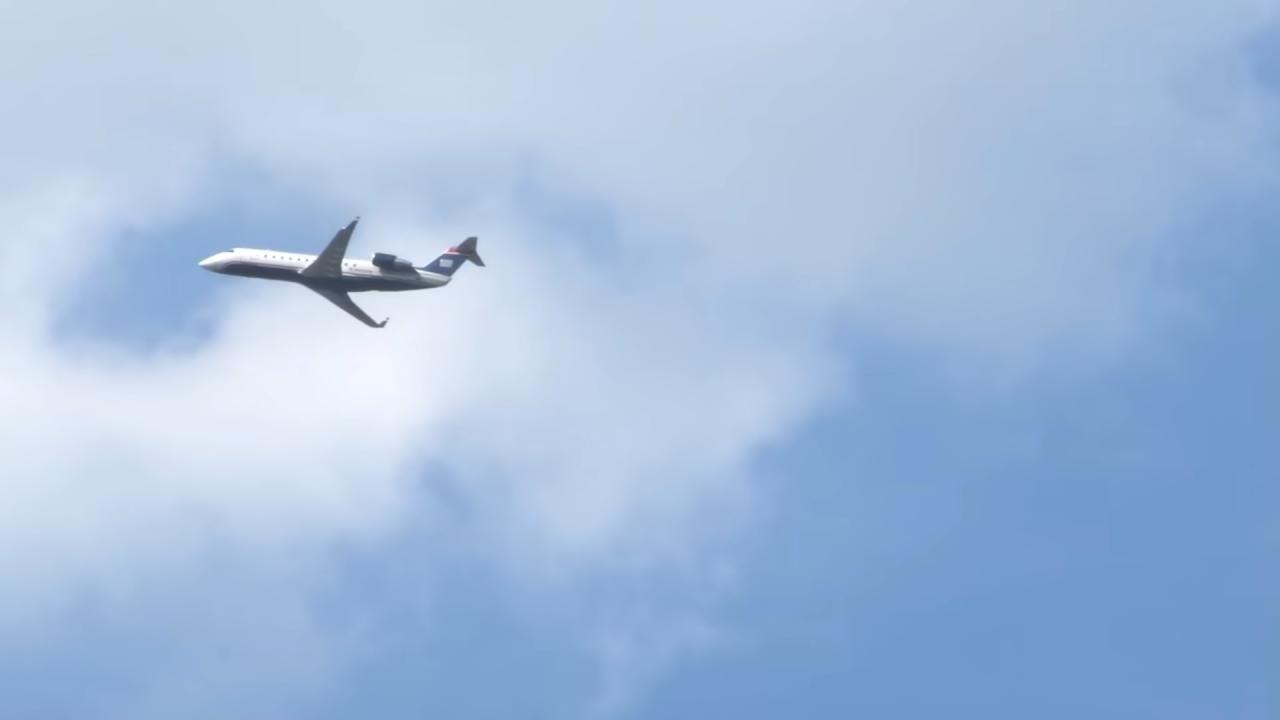Airplane: (187, 201, 496, 338)
